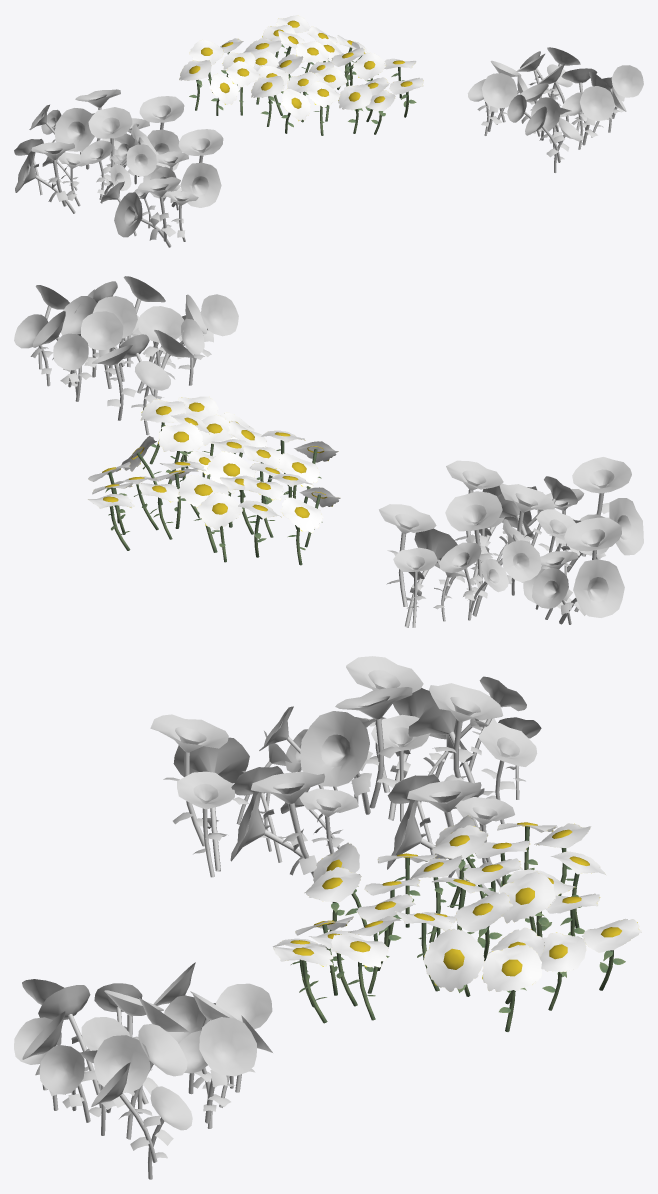
Rendered from AsgardFlowerClusters.FBX.
3 renders of one model, top to bottom at view 1: azimuth 30°, elevation 25°; view 2: azimuth 150°, elevation 25°; view 3: azimuth 270°, elevation 25°, orthographic. The views are drawn at different scales.
Visible parts, largest first — view 1: OrchidCluster, CoreopsisCluster, NicotianaCluster; view 2: OrchidCluster, CoreopsisCluster, NicotianaCluster; view 3: OrchidCluster, CoreopsisCluster, NicotianaCluster.
Part boxes in pixels (x1,y1,x2,y2): OrchidCluster: (14,89,223,247); CoreopsisCluster: (179,15,423,135); NicotianaCluster: (467,47,643,172); OrchidCluster: (379,457,643,627); CoreopsisCluster: (88,396,340,565); NicotianaCluster: (14,276,238,435); OrchidCluster: (150,656,541,895); CoreopsisCluster: (273,815,641,1031); NicotianaCluster: (14,962,272,1179).
Size of the model in its own units: 6.11 by 1.16 by 3.6.
